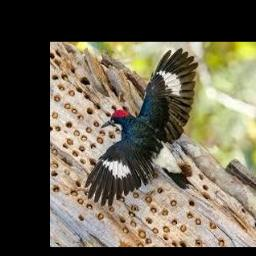Woodpecker: (85, 48, 198, 206)
